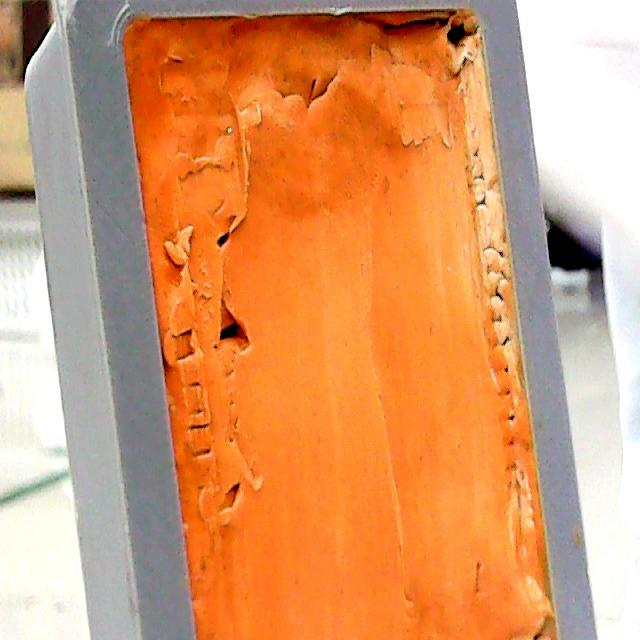block: (18, 5, 600, 640)
